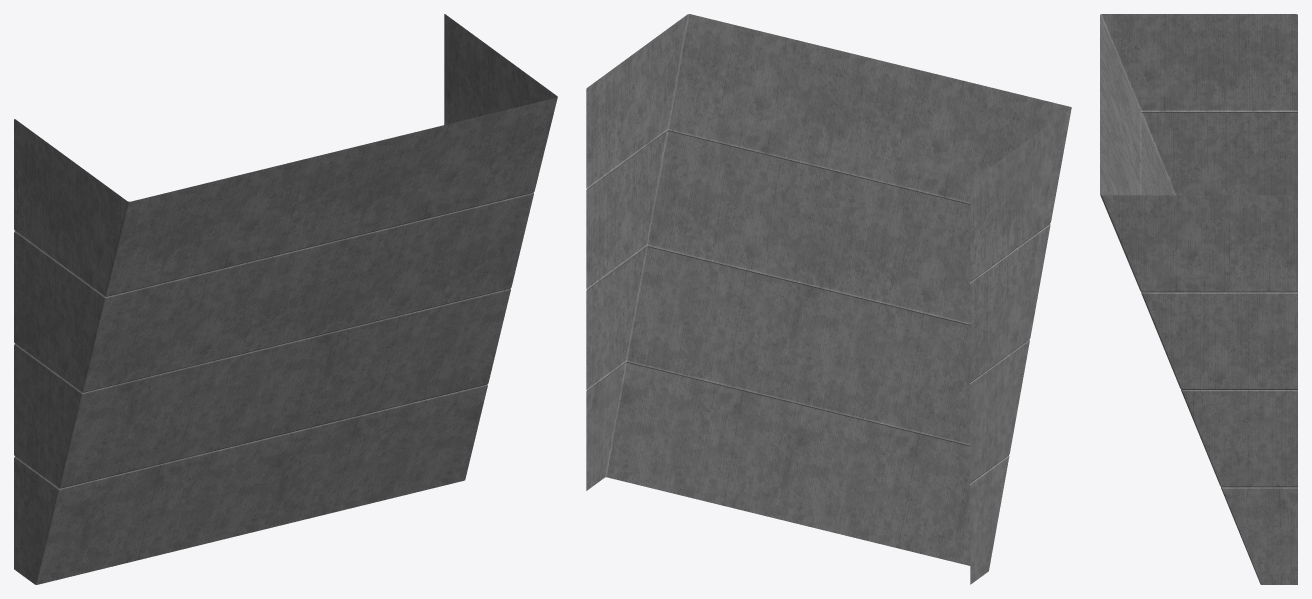
Rendered from SM_Wall_24.fbx.
3 views of the same model, side by side, from view 1: azimuth 30°, elevation 25°; view 2: azimuth 150°, elevation 25°; view 3: azimuth 270°, elevation 25° (orthographic). The views are drawn at different scales.
Visible parts, largest first — view 1: SM_Wall_25; view 2: SM_Wall_25; view 3: SM_Wall_25.
Boxes of the visible parts, <box> form: SM_Wall_25: <box>14,14,557,584</box>; SM_Wall_25: <box>586,14,1071,584</box>; SM_Wall_25: <box>1100,14,1297,584</box>.
Size of the model in its own units: 798 by 800 by 368.
